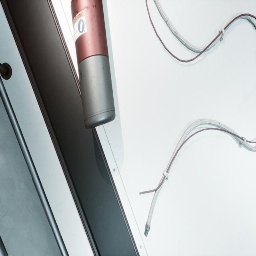NitrogenTank ,: (70, 0, 115, 129)
